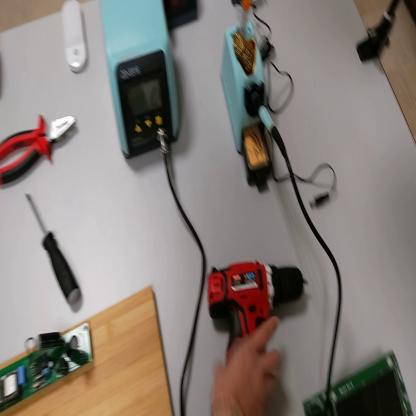electric screwdriver: (204, 258, 305, 347)
hand: (212, 314, 283, 416)
high voltage board: (1, 313, 94, 411)
low voltage board: (303, 349, 416, 416)
pliers: (2, 108, 77, 186)
screwdriver-: (24, 195, 83, 307)
socket: (161, 3, 202, 29), (232, 1, 268, 17)
welder base: (223, 1, 281, 193)
welder probe tip: (252, 94, 286, 151)
welder station: (99, 2, 182, 167)
working area: (4, 289, 174, 415)
